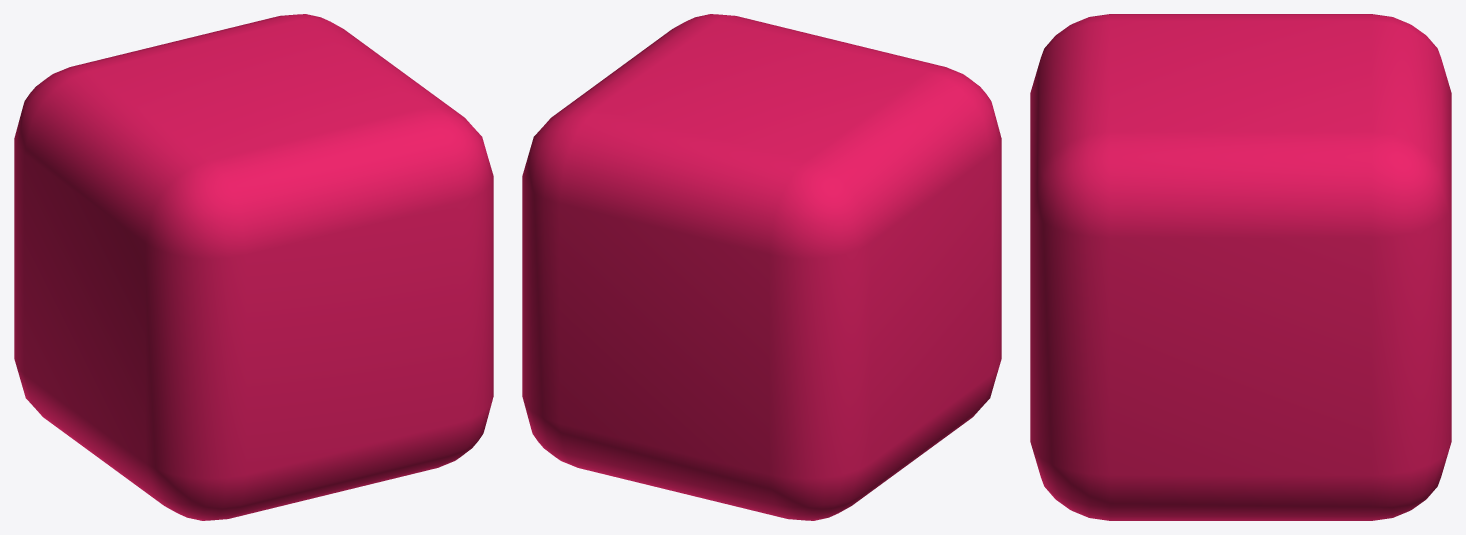
3 views of the same model, side by side, from view 1: azimuth 30°, elevation 25°; view 2: azimuth 150°, elevation 25°; view 3: azimuth 270°, elevation 25° (orthographic). The views are drawn at different scales.
Visible parts, largest first — view 1: SM_Cube; view 2: SM_Cube; view 3: SM_Cube.
Boxes of the visible parts, bbox=[...] form: SM_Cube: bbox=[14, 14, 493, 520]; SM_Cube: bbox=[522, 14, 1001, 520]; SM_Cube: bbox=[1030, 14, 1451, 520].
Size of the model in its own units: 100 by 100 by 100.
